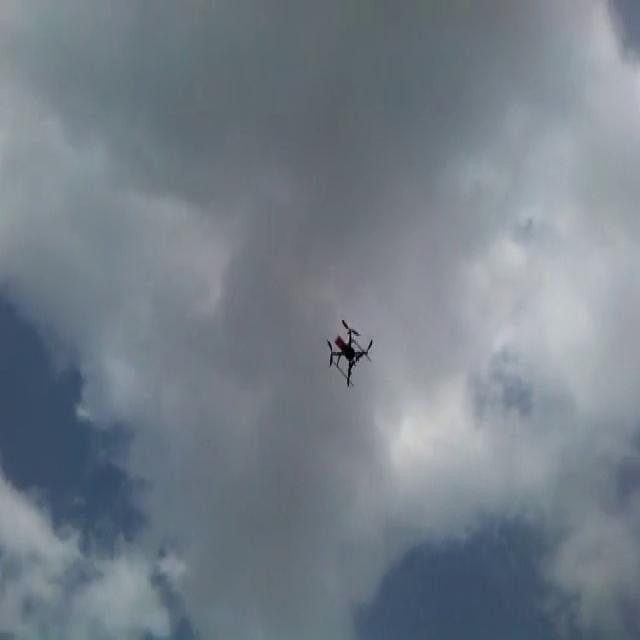drone: (324, 313, 374, 387)
